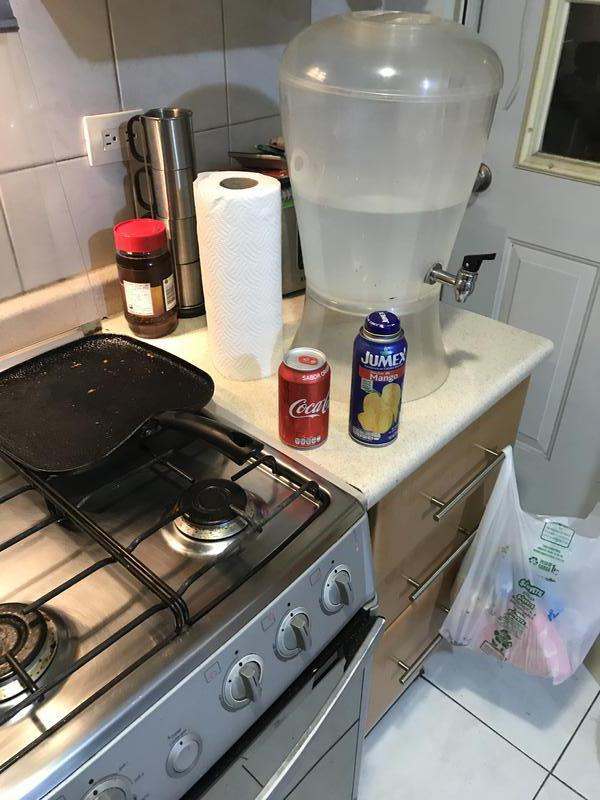coca_cola: (276, 345, 334, 452)
jugo_jumex: (349, 310, 411, 447)
